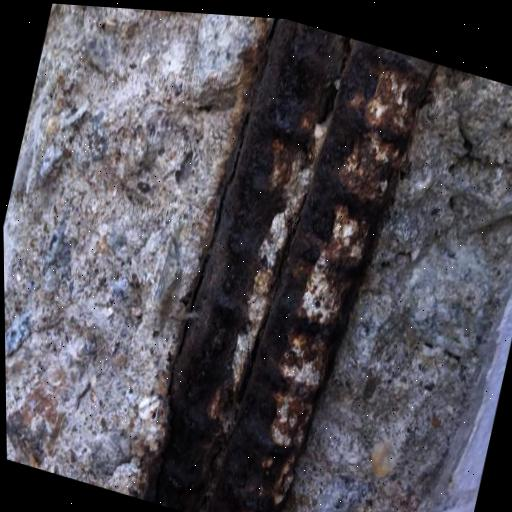exposed_rebar: (156, 20, 433, 512)
spalling: (3, 4, 512, 512)
